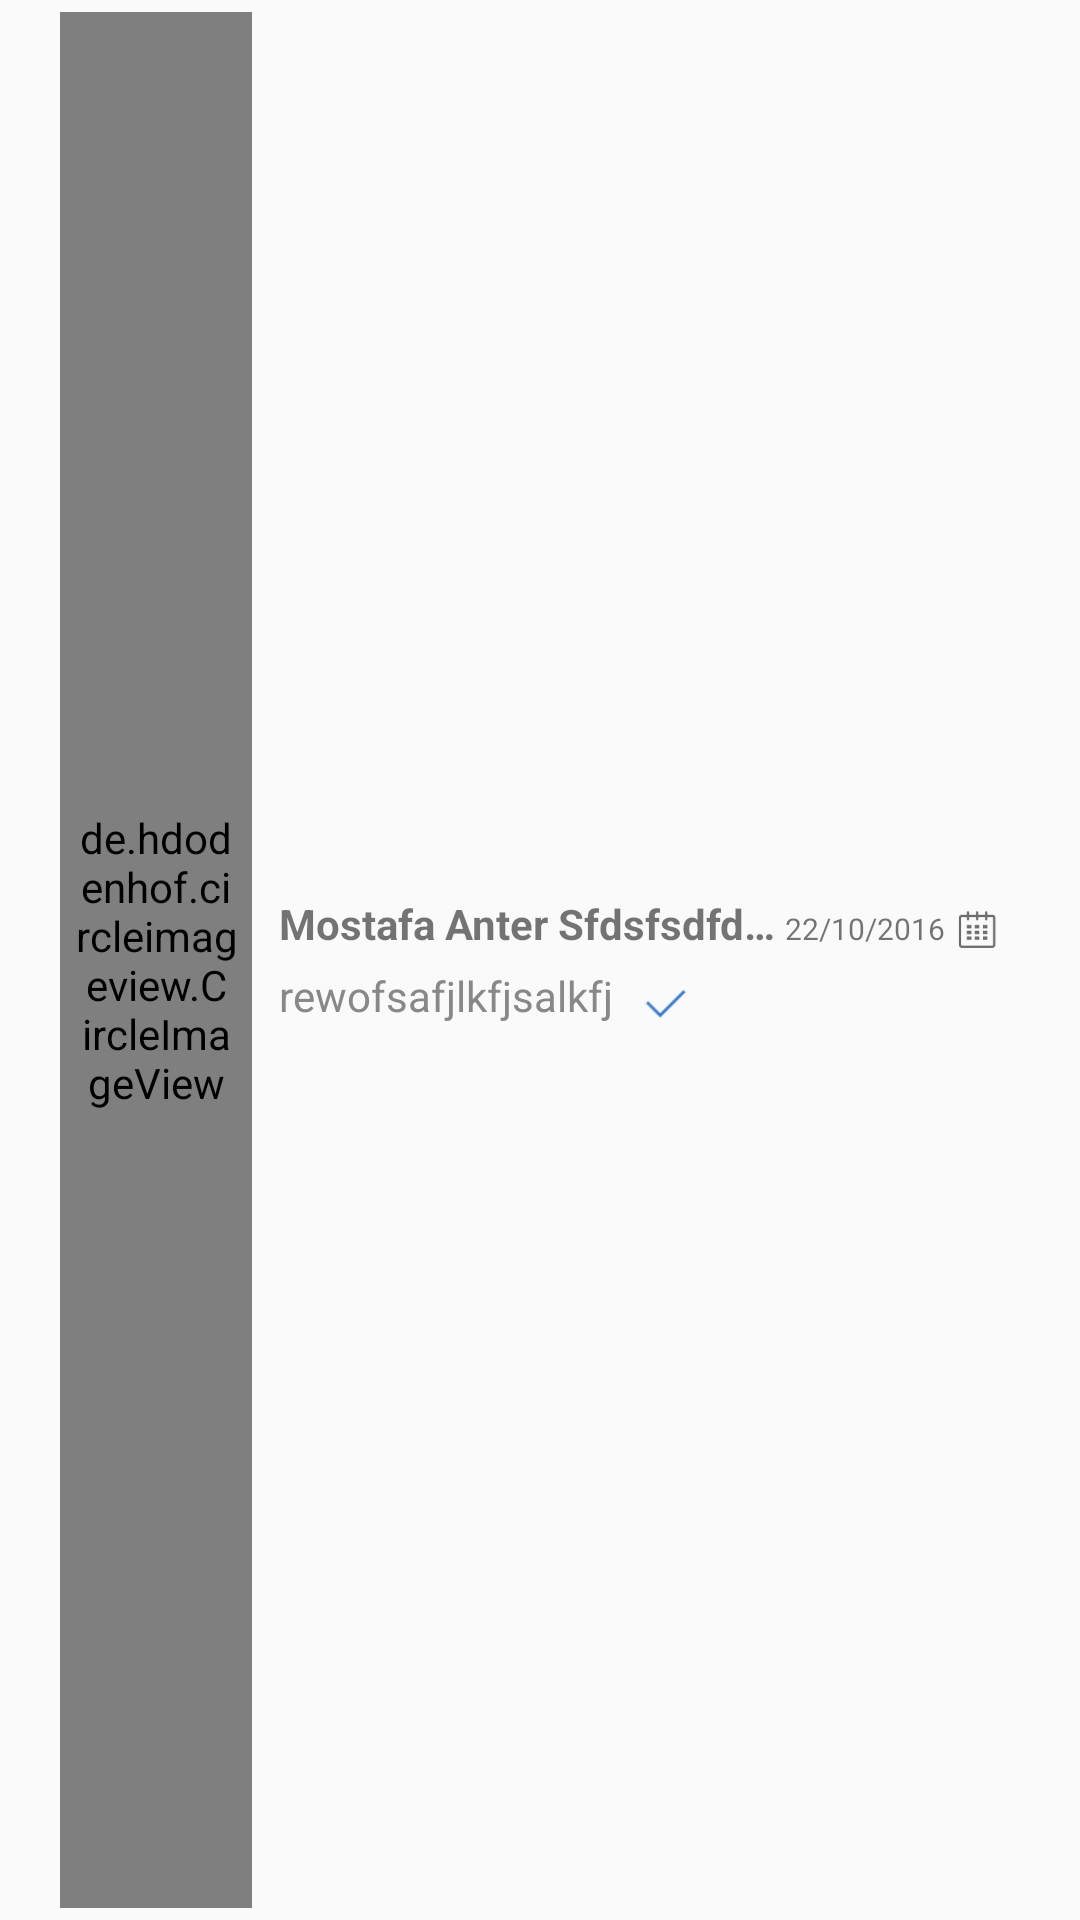

Icon click points for this 1080px×1920px phone screenshot, format (x,y):
client order date: (977,929)
client order seen: (665,1004)
